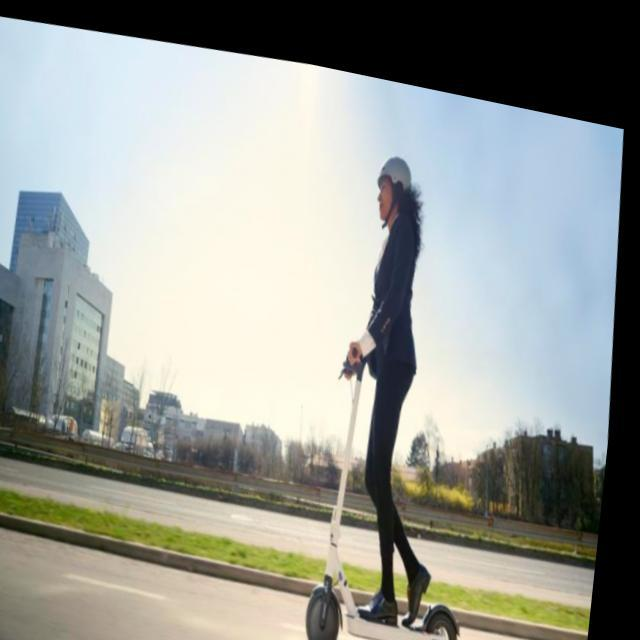Helmet: (365, 150, 420, 223)
